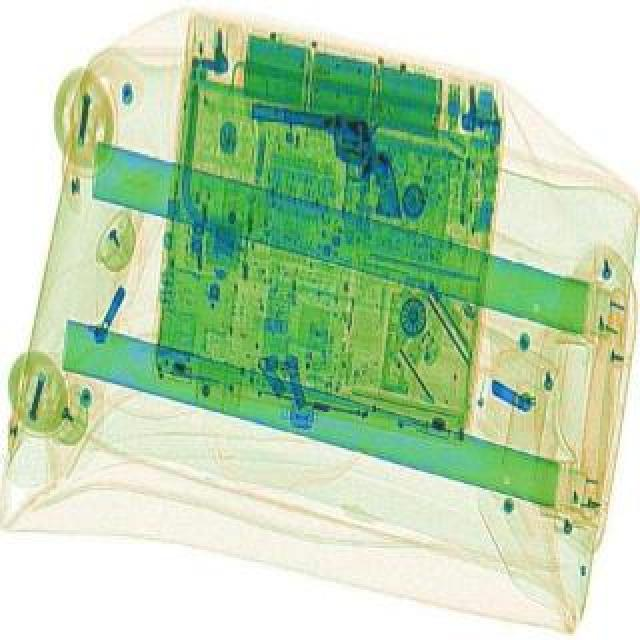gun: (234, 98, 420, 218)
